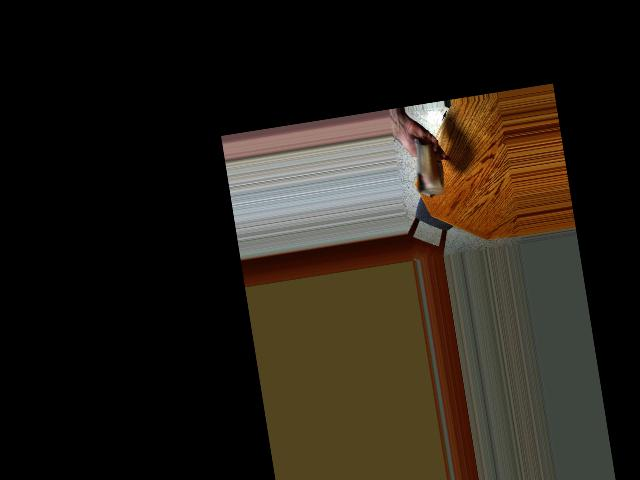cheese: (406, 139, 452, 197)
